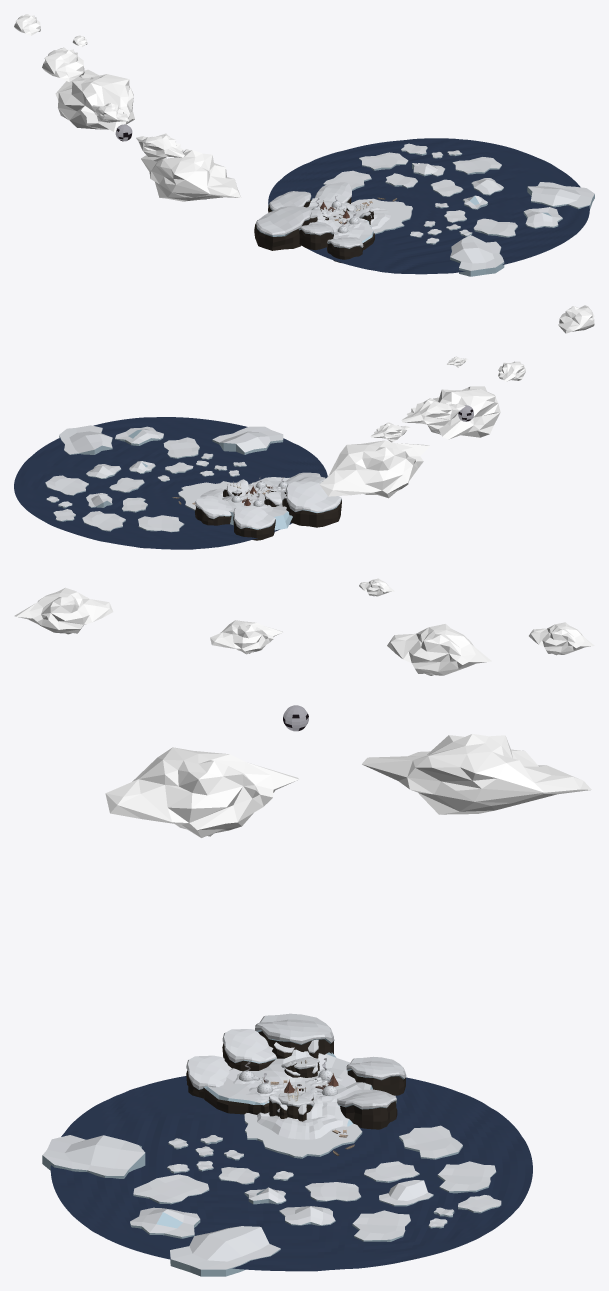
3 views of the same model, one above another, from view 1: azimuth 30°, elevation 25°; view 2: azimuth 150°, elevation 25°; view 3: azimuth 270°, elevation 25° (orthographic). The views are drawn at different scales.
Parts seen in each view (by area): view 1: water, Sphere.001, Sphere.000, cliff.004, ice6.002, ice6.001, mountain, Sphere.003, ice, Sphere.005, cliff.005, cliff.003 (+12 smaller); view 2: water, Sphere.000, Sphere.001, cliff.004, ice6.002, ice6.001, cliff.008, mountain, Sphere.003, cliff.001, Sphere.005, ice3.002 (+9 smaller); view 3: water, Sphere.000, Sphere.001, mountain, ice6.001, ice6.002, Sphere.003, Sphere.005, cliff.004, ice, cliff.001, cliff.005 (+13 smaller).
Boxes of the visible parts, <box> form: water: <box>268,138,589,274</box>; Sphere.001: <box>141,149,241,201</box>; Sphere.000: <box>55,69,134,132</box>; cliff.004: <box>254,206,311,250</box>; ice6.002: <box>450,235,504,276</box>; ice6.001: <box>527,182,594,208</box>; mountain: <box>307,198,374,250</box>; Sphere.003: <box>42,47,84,81</box>; ice: <box>351,198,412,234</box>; Sphere.005: <box>136,133,184,161</box>; cliff.005: <box>298,221,334,250</box>; cliff.003: <box>327,237,363,262</box>; water: <box>14,417,327,549</box>; Sphere.000: <box>319,440,429,498</box>; Sphere.001: <box>428,386,500,439</box>; cliff.004: <box>285,481,341,527</box>; ice6.002: <box>212,426,283,454</box>; ice6.001: <box>59,425,112,454</box>; cliff.008: <box>233,506,275,540</box>; mountain: <box>222,477,292,530</box>; Sphere.003: <box>401,398,465,429</box>; cliff.001: <box>195,495,232,525</box>; Sphere.005: <box>558,305,594,333</box>; ice3.002: <box>138,515,184,532</box>; water: <box>50,1076,532,1271</box>; Sphere.000: <box>362,734,591,814</box>; Sphere.001: <box>105,747,298,837</box>; mountain: <box>203,1049,372,1126</box>; ice6.001: <box>170,1226,280,1276</box>; ice6.002: <box>42,1135,145,1178</box>; Sphere.003: <box>387,624,491,675</box>; Sphere.005: <box>14,587,113,634</box>; cliff.004: <box>255,1013,334,1054</box>; ice: <box>244,1113,362,1158</box>; cliff.001: <box>337,1089,397,1129</box>; cliff.005: <box>222,1029,276,1071</box>.
Size of what is drawn, in the model's own units: 105 by 47.41 by 69.53.
Materials: 9 (8 with a texture image).
